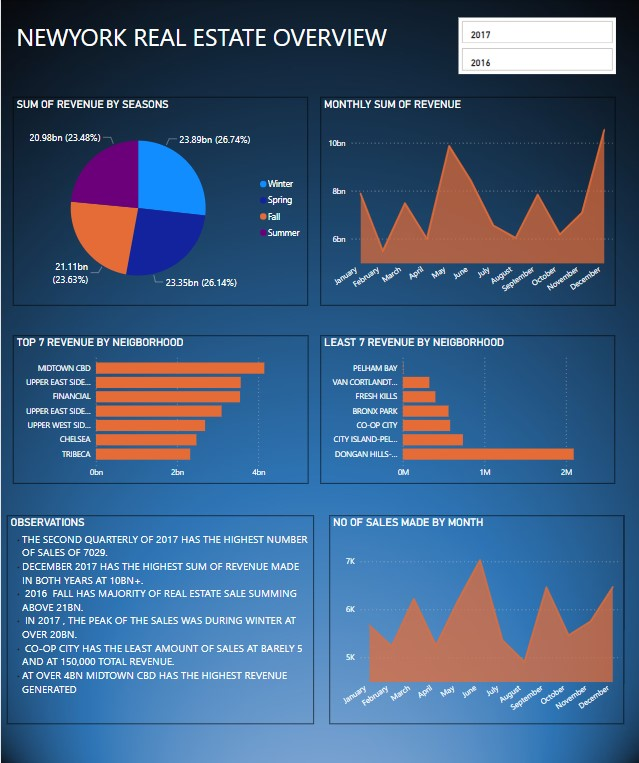

The dashboard page shown, as its layout file describes it:
{"tool":"powerbi","page":{"name":"Page 2","canvas":[1000,1200],"ordinal":1},"visuals":[{"type":"textbox","box":[18.2,31.3,625.2,67.7],"z":0},{"type":"pieChart","title":"SUM OF REVENUE BY SEASONS","fields":{"Category":["Table2.SEASONS"],"Y":["Sum(Table2.SALE PRICE)"]},"box":[17.8,155.6,462.2,326.7],"z":1000},{"type":"areaChart","title":"MONTHLY SUM OF REVENUE","fields":{"Y":["Sum(Table2.SALE PRICE)"],"Category":["Table2.SALEDATEMONTH"]},"box":[500,155.6,462.2,326.7],"z":2000},{"type":"advancedSlicerVisual","fields":{"Values":["Table2.SALE YEAR"]},"box":[715.6,31.1,246.7,88.9],"z":3000},{"type":"textbox","title":"OBSERVATIONS","box":[9,811.5,480.8,326.9],"z":4000},{"type":"clusteredBarChart","title":"TOP 7 REVENUE BY NEIGBORHOOD","fields":{"Category":["Table2.NEIGHBORHOOD"],"Y":["Sum(Table2.SALE PRICE)"]},"box":[17.9,528.2,462.8,232.1],"z":5000},{"type":"clusteredBarChart","title":"LEAST 7 REVENUE BY NEIGBORHOOD","fields":{"Category":["Table2.NEIGHBORHOOD"],"Y":["Sum(Table2.SALE PRICE)"]},"box":[501.3,528.2,461.5,232.1],"z":6000},{"type":"stackedAreaChart","title":"NO OF SALES MADE BY MONTH","fields":{"Y":["CountNonNull(Table2.SALE PRICE)"],"Category":["Table2.SALEDATEMONTH"]},"box":[514.1,811.5,461.5,326.9],"z":7000}]}

Visuals, with their boxes in screenshot pixels (x1, y1, x2, y2), scaled from the page's 1000x1200 canvas onto the 639x763 screenshot:
textbox: x1=12 y1=20 x2=411 y2=63
"SUM OF REVENUE BY SEASONS" pieChart: x1=11 y1=99 x2=307 y2=307
"MONTHLY SUM OF REVENUE" areaChart: x1=320 y1=99 x2=615 y2=307
advancedSlicerVisual - Table2.SALE YEAR: x1=457 y1=20 x2=615 y2=76
"OBSERVATIONS" textbox: x1=6 y1=516 x2=313 y2=724
"TOP 7 REVENUE BY NEIGBORHOOD" clusteredBarChart: x1=11 y1=336 x2=307 y2=483
"LEAST 7 REVENUE BY NEIGBORHOOD" clusteredBarChart: x1=320 y1=336 x2=615 y2=483
"NO OF SALES MADE BY MONTH" stackedAreaChart: x1=329 y1=516 x2=623 y2=724
